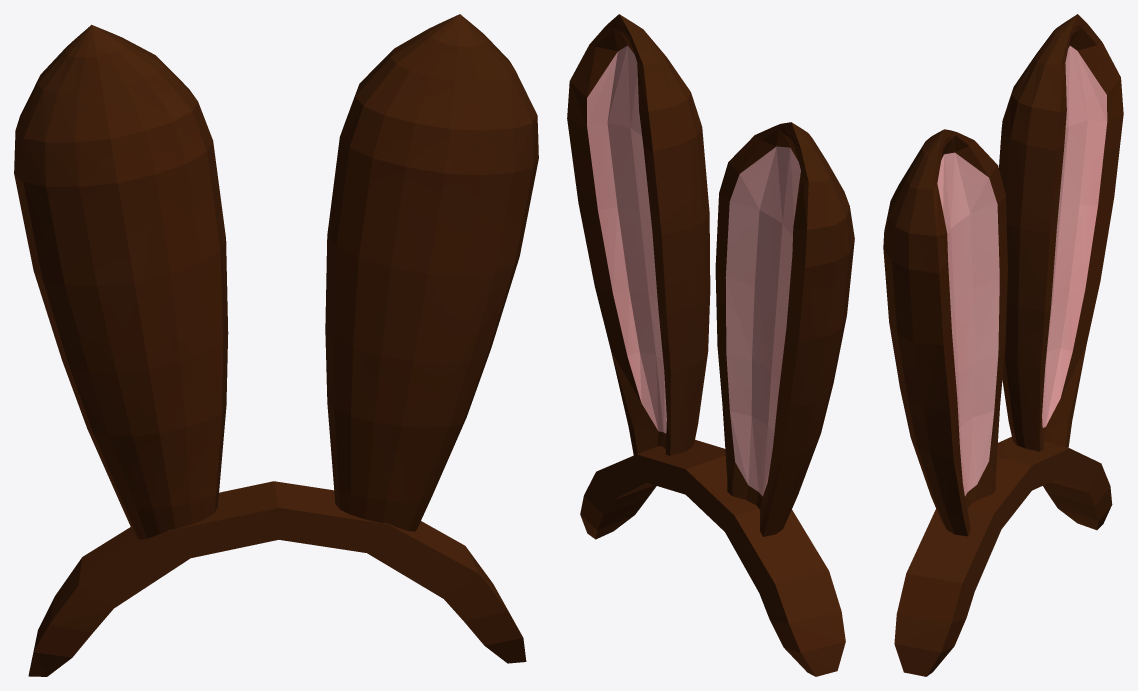
File: BROWN BUNNY EARS.fbx
3 renders of one model, left to right at view 1: azimuth 30°, elevation 25°; view 2: azimuth 150°, elevation 25°; view 3: azimuth 270°, elevation 25°, orthographic. The views are drawn at different scales.
Visible parts, largest first — view 1: BROWN_BUNNY_EARS; view 2: BROWN_BUNNY_EARS; view 3: BROWN_BUNNY_EARS.
Boxes of the visible parts, bbox=[...] form: BROWN_BUNNY_EARS: bbox=[14, 14, 538, 676]; BROWN_BUNNY_EARS: bbox=[567, 14, 854, 676]; BROWN_BUNNY_EARS: bbox=[883, 14, 1123, 676].
Bounding box in the file's own units: 22.04 × 32.11 × 13.22.
